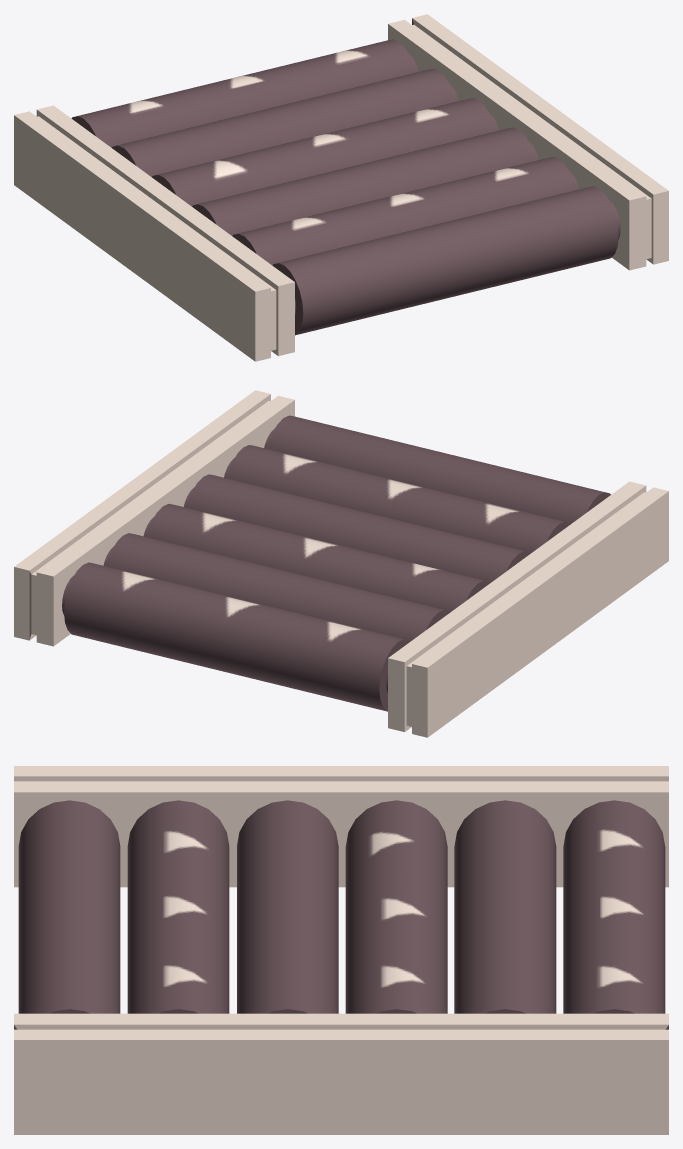
The model's file is band_six_roll.fbx.
The picture shows the model from 3 angles, top to bottom: view 1: azimuth 30°, elevation 25°; view 2: azimuth 150°, elevation 25°; view 3: azimuth 270°, elevation 25°; orthographic projection. The views are drawn at different scales.
Visible parts, largest first — view 1: band_six_roll; view 2: band_six_roll; view 3: band_six_roll.
Boxes of the visible parts, x1=… form: band_six_roll: x1=14, y1=14, x2=668, y2=361; band_six_roll: x1=14, y1=390, x2=668, y2=737; band_six_roll: x1=14, y1=766, x2=668, y2=1134.
Size of the model in its own units: 185 by 30 by 188.
